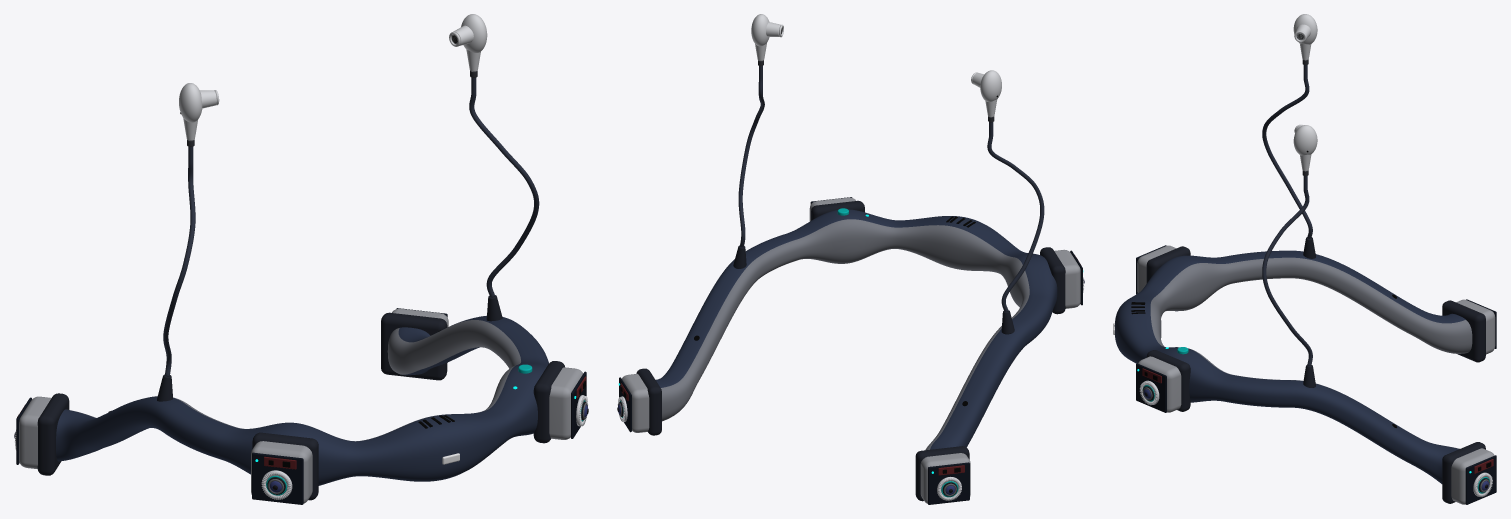
Rendered from neckband.glb.
3 renders of one model, left to right at view 1: azimuth 30°, elevation 25°; view 2: azimuth 150°, elevation 25°; view 3: azimuth 270°, elevation 25°, orthographic. The views are drawn at different scales.
Visible parts, largest first — view 1: Neckband_Body, CAM_FR_Boot, CAM_RR_Housing, CAM_FL_Boot, CAM_RL_Glass, EAR_R_Cable, EAR_L_Cable, CAM_FL_Housing, CAM_RR_Boot, CAM_RL_Housing, CAM_RL_Boot, EAR_L_BudBody (+1 smaller); view 2: Neckband_Body, EAR_L_Cable, CAM_FR_Housing, CAM_FL_Glass, CAM_RL_Housing, CAM_FR_Boot, EAR_R_Cable, CAM_RL_Boot, CAM_FL_Housing, CAM_FL_Boot, EAR_L_BudBody; view 3: Neckband_Body, CAM_FL_Boot, EAR_R_Cable, CAM_FR_Housing, CAM_RR_Housing, EAR_L_Cable, CAM_FR_Boot, CAM_RR_Boot, CAM_FR_Glass, CAM_RR_Glass, CAM_FL_Housing, EAR_R_BudBody (+2 smaller).
Boxes of the visible parts, bbox=[...] form: Neckband_Body: bbox=[56, 315, 548, 485]; CAM_FR_Boot: bbox=[381, 312, 447, 380]; CAM_RR_Housing: bbox=[549, 367, 583, 439]; CAM_FL_Boot: bbox=[37, 393, 69, 475]; CAM_RL_Glass: bbox=[252, 452, 303, 504]; EAR_R_Cable: bbox=[469, 77, 539, 297]; EAR_L_Cable: bbox=[163, 146, 195, 376]; CAM_FL_Housing: bbox=[19, 396, 51, 469]; CAM_RR_Boot: bbox=[533, 361, 564, 443]; CAM_RL_Housing: bbox=[251, 441, 312, 503]; CAM_RL_Boot: bbox=[252, 432, 318, 500]; EAR_L_BudBody: bbox=[179, 83, 202, 122]; Neckband_Body: bbox=[656, 209, 1057, 450]; EAR_L_Cable: bbox=[987, 122, 1044, 311]; CAM_FR_Housing: bbox=[622, 373, 649, 432]; CAM_FL_Glass: bbox=[928, 462, 969, 504]; CAM_RL_Housing: bbox=[1054, 249, 1080, 308]; CAM_FR_Boot: bbox=[636, 368, 661, 435]; EAR_R_Cable: bbox=[738, 66, 764, 247]; CAM_RL_Boot: bbox=[1040, 247, 1065, 314]; CAM_FL_Housing: bbox=[920, 453, 970, 503]; CAM_FL_Boot: bbox=[915, 446, 969, 501]; EAR_L_BudBody: bbox=[980, 70, 1001, 101]; Neckband_Body: bbox=[1114, 250, 1472, 483]; CAM_FL_Boot: bbox=[1442, 300, 1485, 362]; EAR_R_Cable: bbox=[1262, 176, 1312, 365]; CAM_FR_Housing: bbox=[1451, 448, 1494, 504]; CAM_RR_Housing: bbox=[1138, 356, 1181, 412]; EAR_L_Cable: bbox=[1262, 65, 1312, 238]; CAM_FR_Boot: bbox=[1442, 442, 1485, 503]; CAM_RR_Boot: bbox=[1146, 350, 1190, 411]; CAM_FR_Glass: bbox=[1465, 455, 1496, 504]; CAM_RR_Glass: bbox=[1136, 363, 1166, 412]; CAM_FL_Housing: bbox=[1456, 299, 1495, 354]; EAR_R_BudBody: bbox=[1293, 125, 1317, 155].
Size of the model in its own units: 0.2483 by 0.2437 by 0.238.
